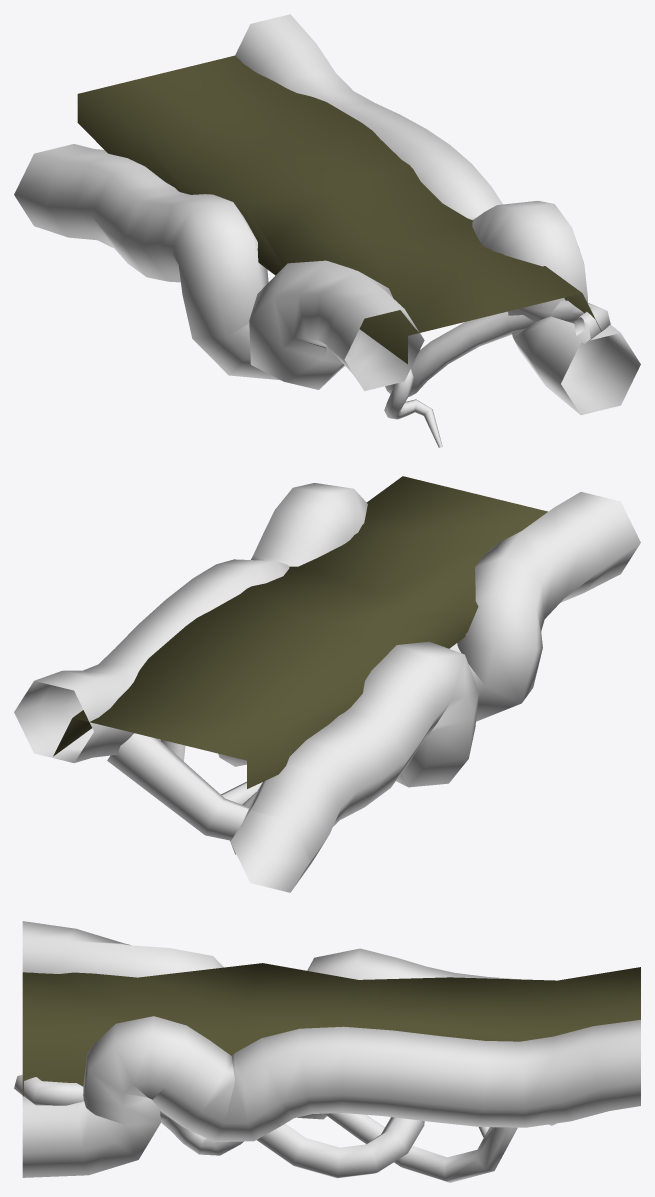
3 renders of one model, top to bottom at view 1: azimuth 30°, elevation 25°; view 2: azimuth 150°, elevation 25°; view 3: azimuth 270°, elevation 25°, orthographic. The views are drawn at different scales.
Visible parts, largest first — view 1: NurbsPath.003, DummyPlane.002; view 2: NurbsPath.003, DummyPlane.002; view 3: NurbsPath.003, DummyPlane.002.
Boxes of the visible parts, box(x1,y1,x2,y2) form: NurbsPath.003: box(14, 14, 640, 447); DummyPlane.002: box(77, 55, 601, 364); NurbsPath.003: box(14, 483, 640, 892); DummyPlane.002: box(53, 476, 547, 788); NurbsPath.003: box(14, 921, 640, 1182); DummyPlane.002: box(22, 963, 640, 1096).
Size of the model in its own units: 104 by 68.98 by 203.
